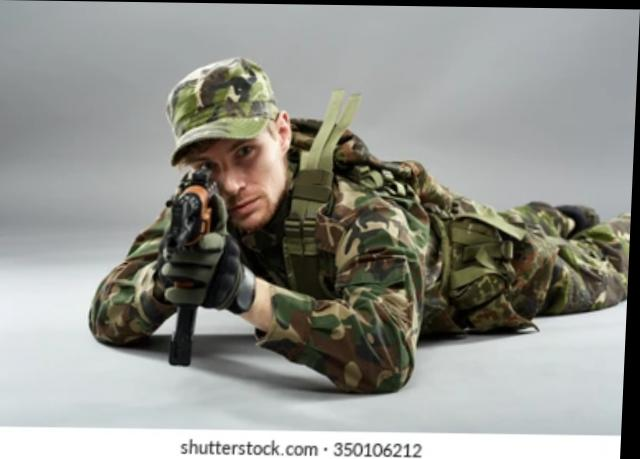other: (91, 51, 638, 387)
